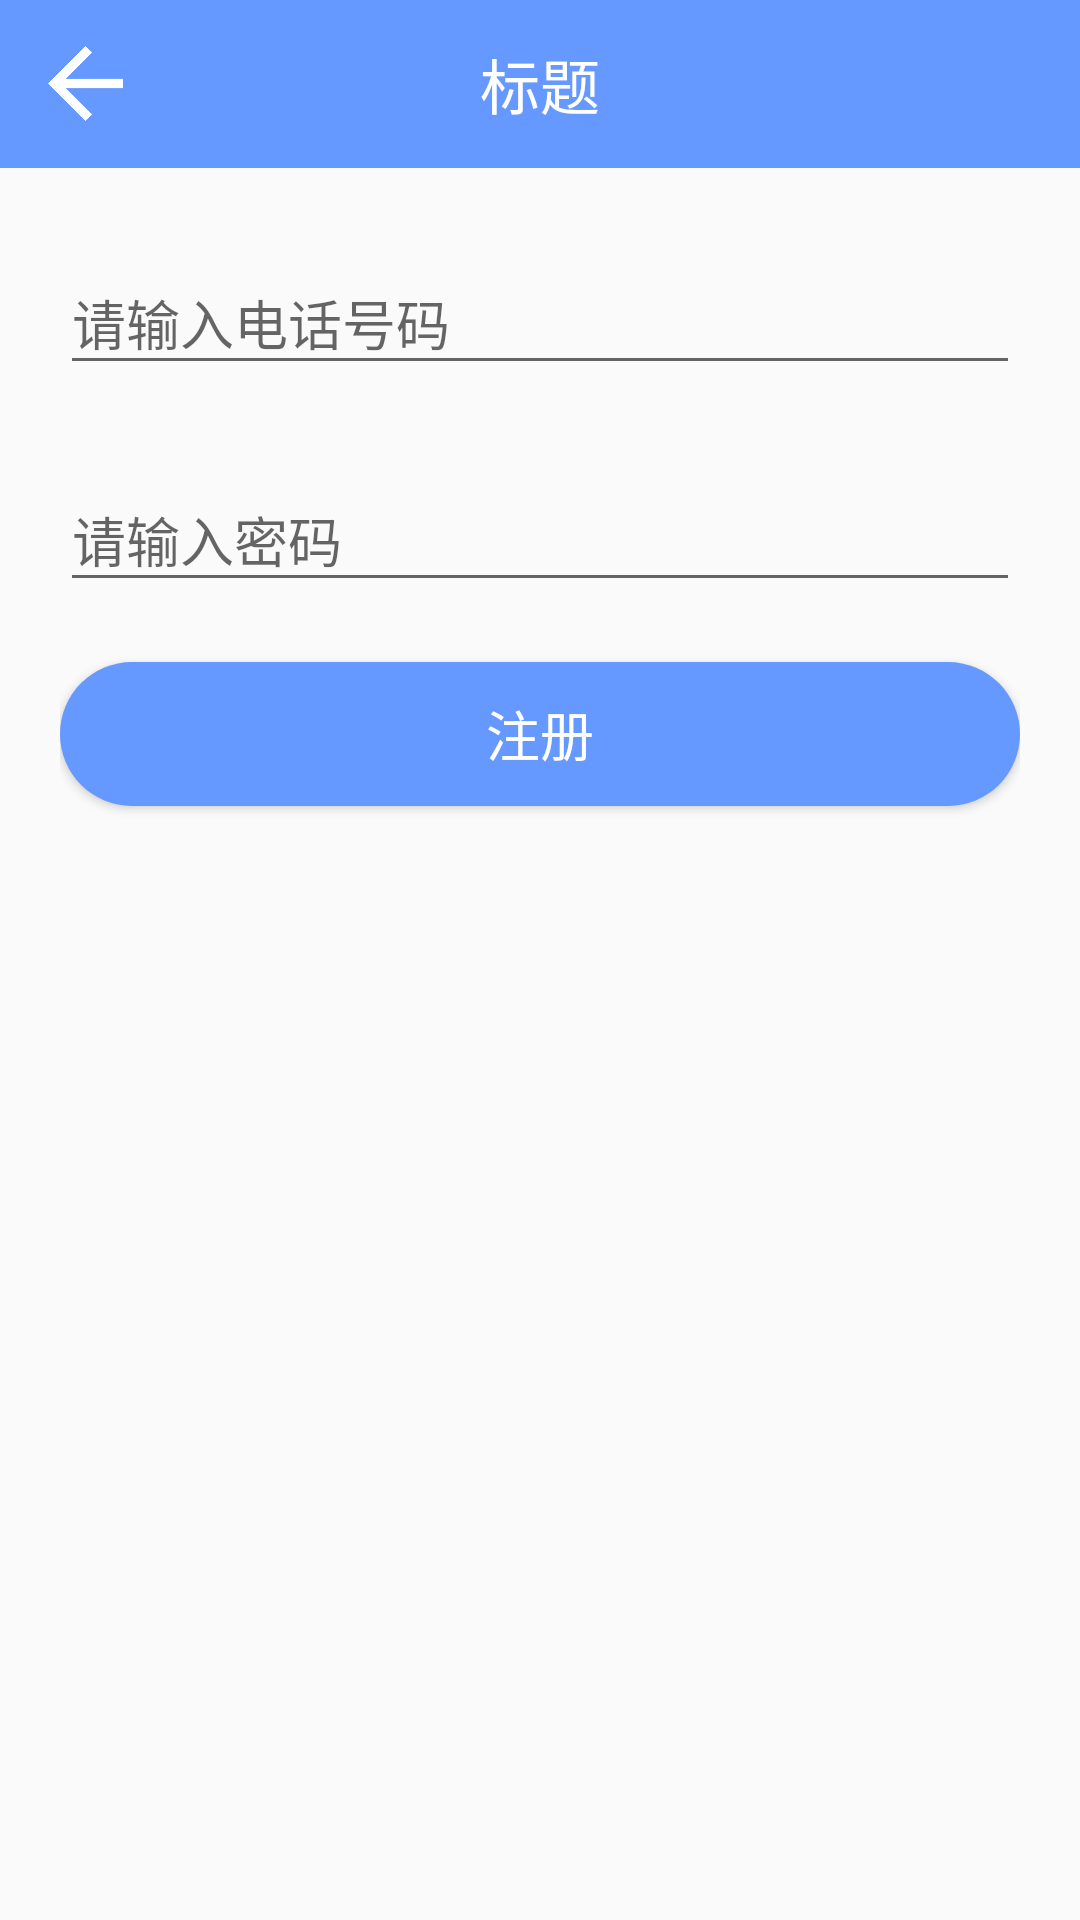

Where icons sit on this 1080px x 1920px app screen, as (x1, y1, x2, y2):
back: (48, 46, 123, 121)
